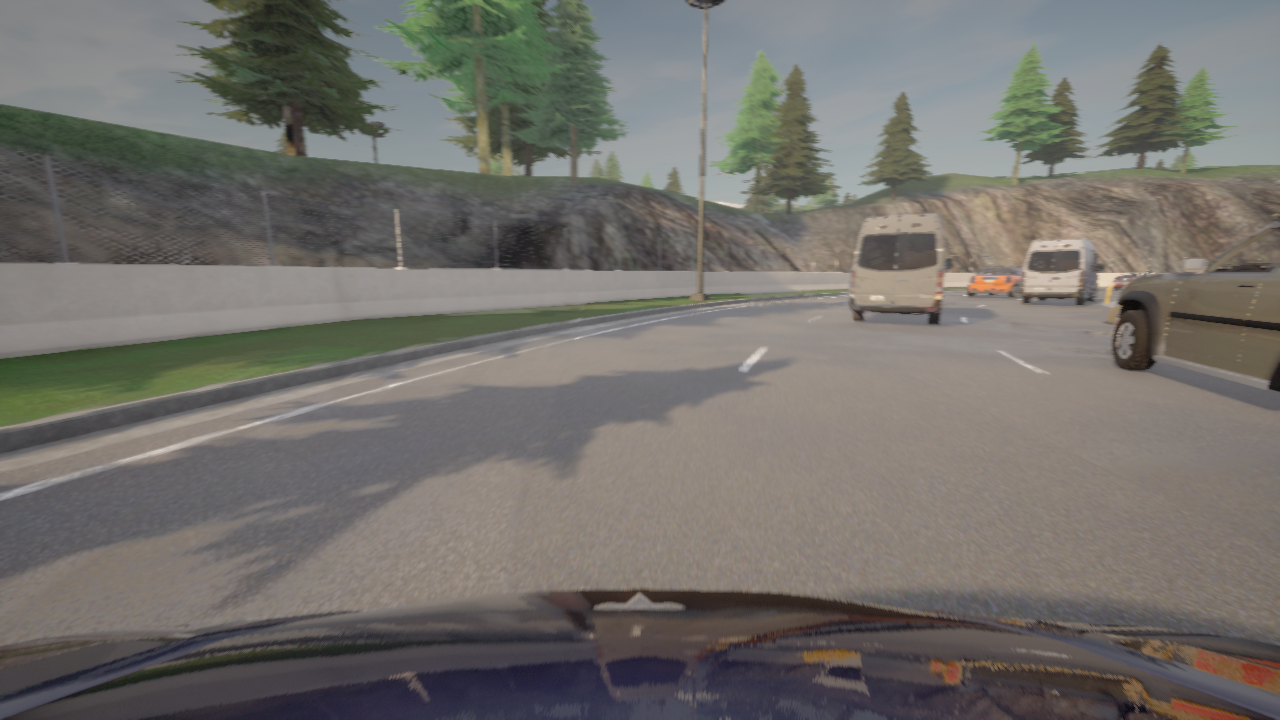cyclist: (0, 588, 1279, 719), (1100, 214, 1279, 391), (849, 213, 952, 324), (1020, 238, 1104, 305), (968, 265, 1022, 297), (1113, 272, 1157, 289)
